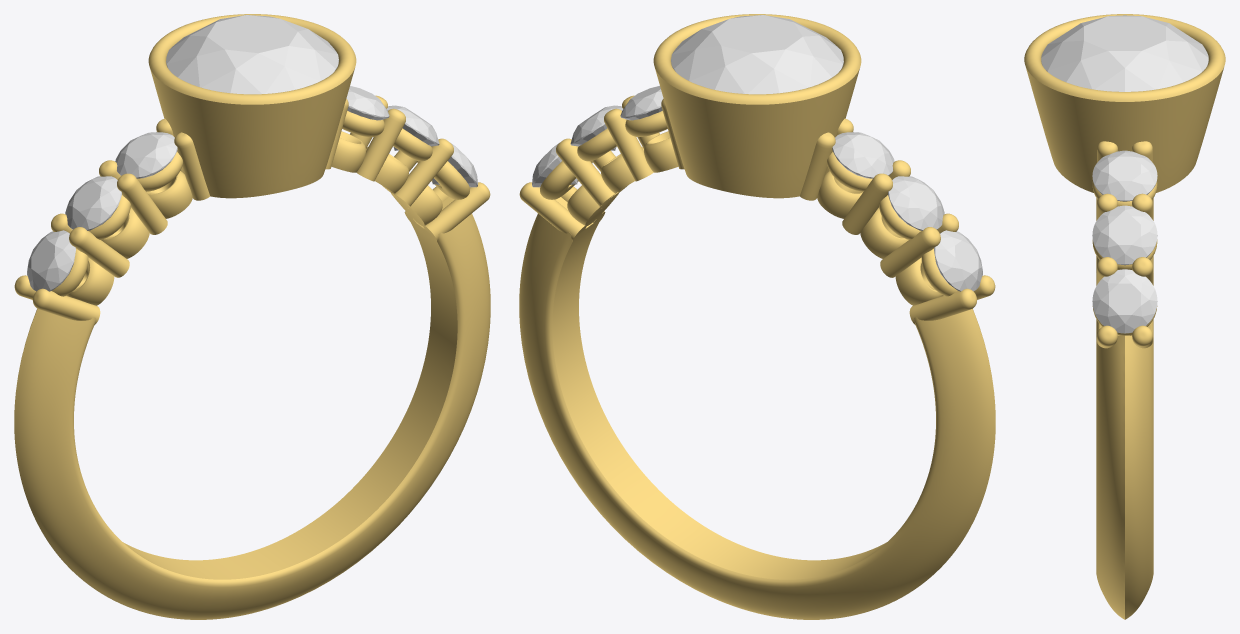
File: diamond-round-yellowgold-bezelset-knifeedge-3stone.glb
The picture shows the model from 3 angles, left to right: view 1: azimuth 30°, elevation 25°; view 2: azimuth 150°, elevation 25°; view 3: azimuth 270°, elevation 25°; orthographic projection. The views are drawn at different scales.
Parts seen in each view (by area): view 1: metal, stone, side.001, side.002, side, side.003, side.004, side.005; view 2: metal, stone, side.001, side.002, side, side.003, side.004, side.005; view 3: metal, stone, side.005, side.004, side.003.
Boxes of the visible parts, x1,y1,x2,y2 form: metal: (14, 14, 490, 619); stone: (166, 15, 338, 94); side.001: (65, 176, 121, 230); side.002: (27, 230, 75, 291); side: (115, 132, 177, 178); side.003: (346, 86, 389, 120); side.004: (386, 105, 439, 150); side.005: (432, 143, 477, 187); metal: (519, 14, 995, 619); stone: (671, 15, 843, 94); side.001: (888, 176, 944, 230); side.002: (934, 230, 982, 291); side: (832, 132, 894, 178); side.003: (620, 86, 663, 120); side.004: (570, 105, 623, 150); side.005: (532, 143, 577, 187); metal: (1024, 14, 1225, 619); stone: (1041, 15, 1208, 91); side.005: (1092, 269, 1157, 333); side.004: (1092, 205, 1157, 265); side.003: (1092, 150, 1157, 201).
Size of the model in its own units: 20.51 by 23.81 by 7.74.
